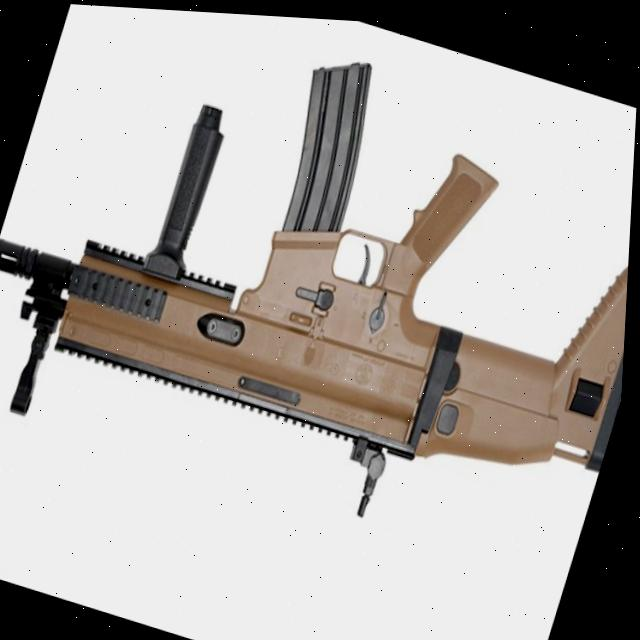firearm: (0, 0, 640, 584)
